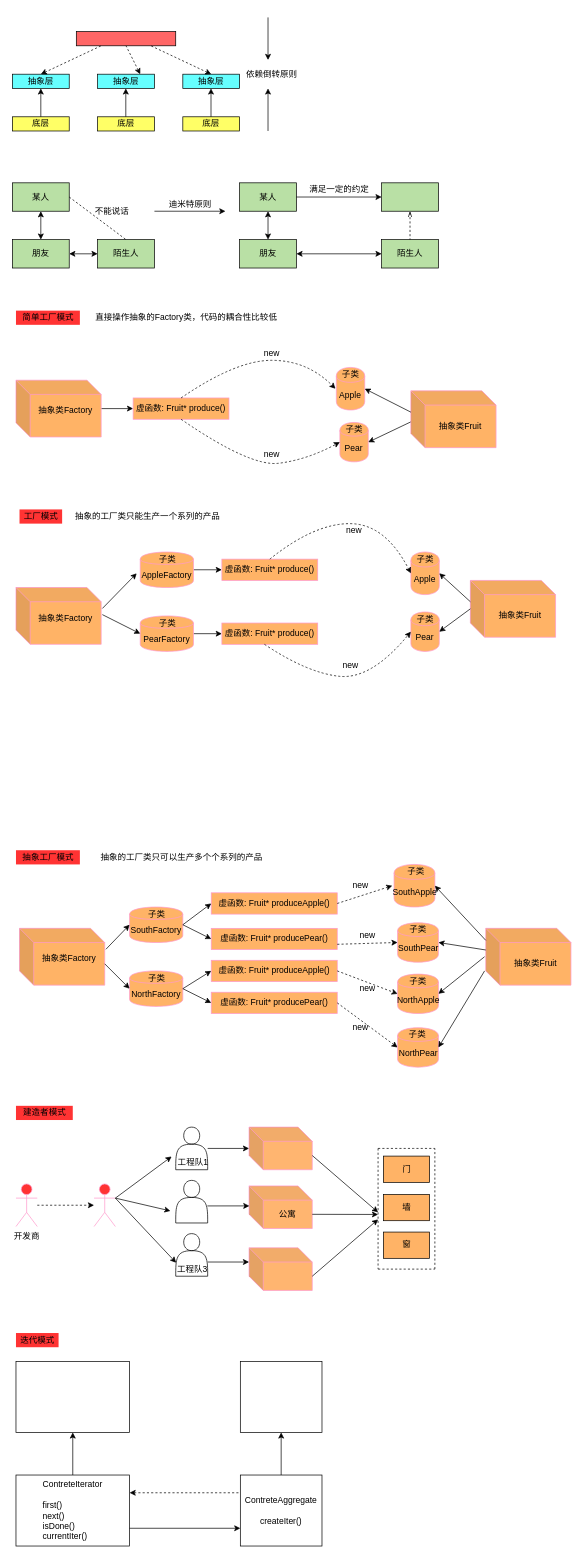
The diagram is 584 pixels wide and 1558 high, and some of its shapes have lost their labels. Each missing label, with the centre of its shape:
"AbstractAggregate createIter()" goes at point (281, 1396).
"AbstractIterator first() next() isDone() currentIter()" goes at point (72, 1396).
"别墅" goes at point (280, 1148).
"工程队2" goes at point (191, 1201).
"平房" goes at point (280, 1268).
"抽象的陌生人" goes at point (409, 196).
"设计师" goes at point (104, 1205).
"高层业务层" goes at point (126, 38).
